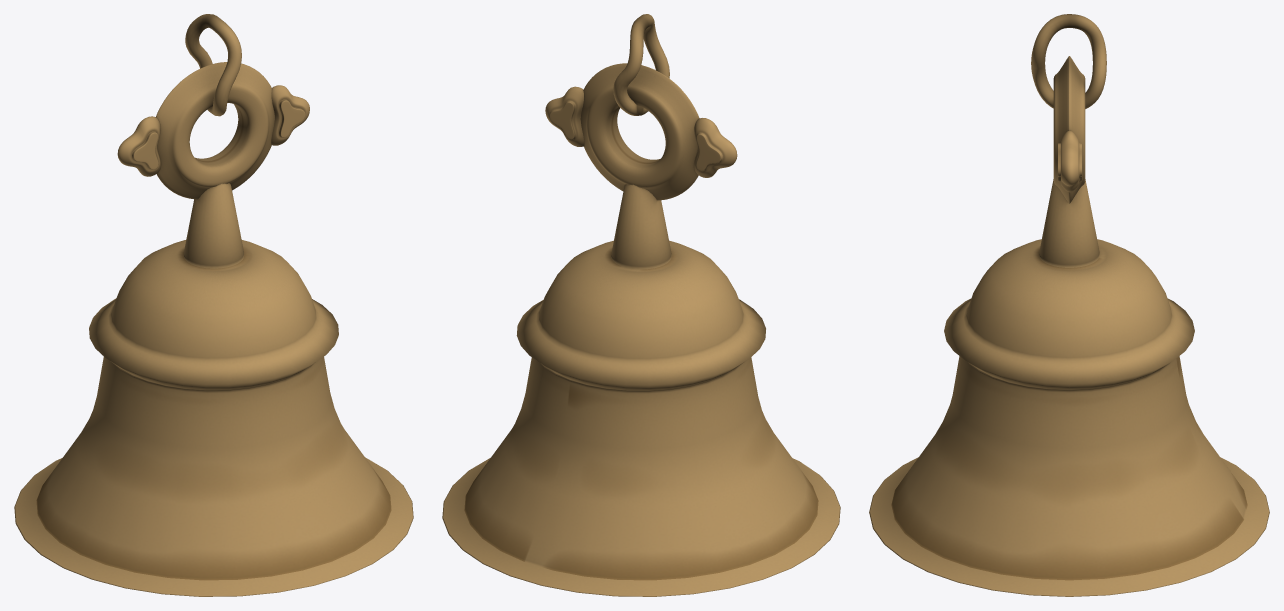
Rendered from bell-only.gltf.
3 renders of one model, left to right at view 1: azimuth 30°, elevation 25°; view 2: azimuth 150°, elevation 25°; view 3: azimuth 270°, elevation 25°, orthographic.
Visible parts, largest first — view 1: Cylinder.003; view 2: Cylinder.003; view 3: Cylinder.003.
Boxes of the visible parts, box(x1,y1,x2,y2) form: Cylinder.003: box(14, 14, 413, 596); Cylinder.003: box(442, 14, 840, 596); Cylinder.003: box(869, 14, 1269, 596).
Size of the model in its own units: 0.558 by 0.8694 by 0.558.
1 material, 1 textured.
